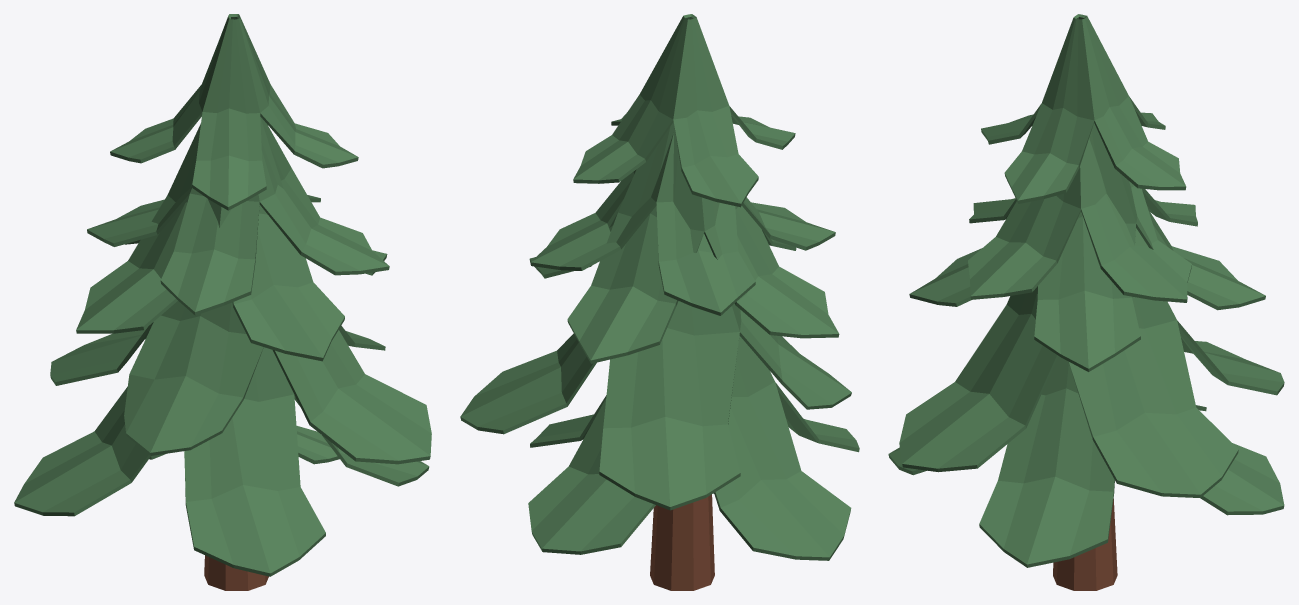
The model's file is agac3.fbx.
3 renders of one model, left to right at view 1: azimuth 30°, elevation 25°; view 2: azimuth 150°, elevation 25°; view 3: azimuth 270°, elevation 25°, orthographic.
Visible parts, largest first — view 1: Plane.008; view 2: Plane.008; view 3: Plane.008.
Part boxes in pixels (left/top/right/bottom): Plane.008: left=14, top=14, right=431, bottom=590; Plane.008: left=460, top=14, right=859, bottom=590; Plane.008: left=888, top=14, right=1284, bottom=590.
Bounding box in the file's own units: 622 × 942 × 605.
